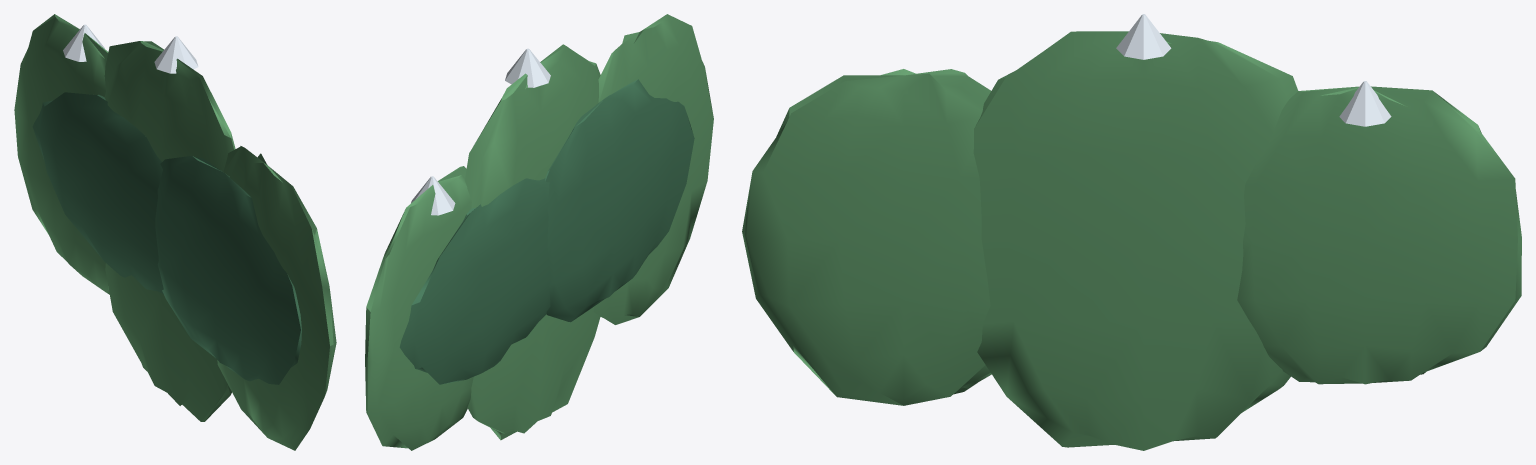
File: LandHills.fbx
3 renders of one model, left to right at view 1: azimuth 30°, elevation 25°; view 2: azimuth 150°, elevation 25°; view 3: azimuth 270°, elevation 25°, orthographic. The views are drawn at different scales.
Parts seen in each view (by area): view 1: LandHills; view 2: LandHills; view 3: LandHills.
Boxes of the visible parts, left/top/right/bottom form: LandHills: left=14, top=14, right=336, bottom=450; LandHills: left=365, top=14, right=713, bottom=450; LandHills: left=742, top=14, right=1521, bottom=450.
Bounding box in the file's own units: 335 × 2612 × 4226.
